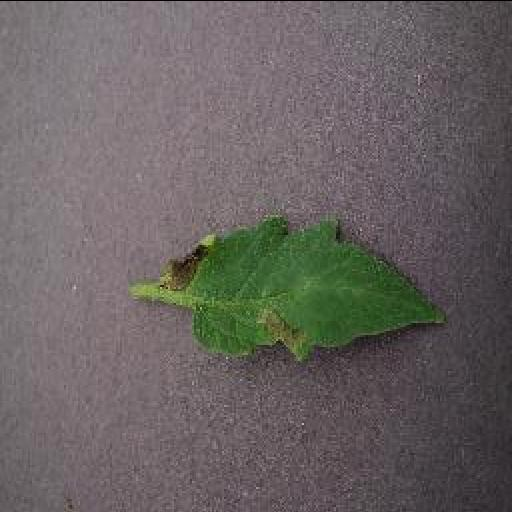disease_tomato: (159, 212, 445, 366)
